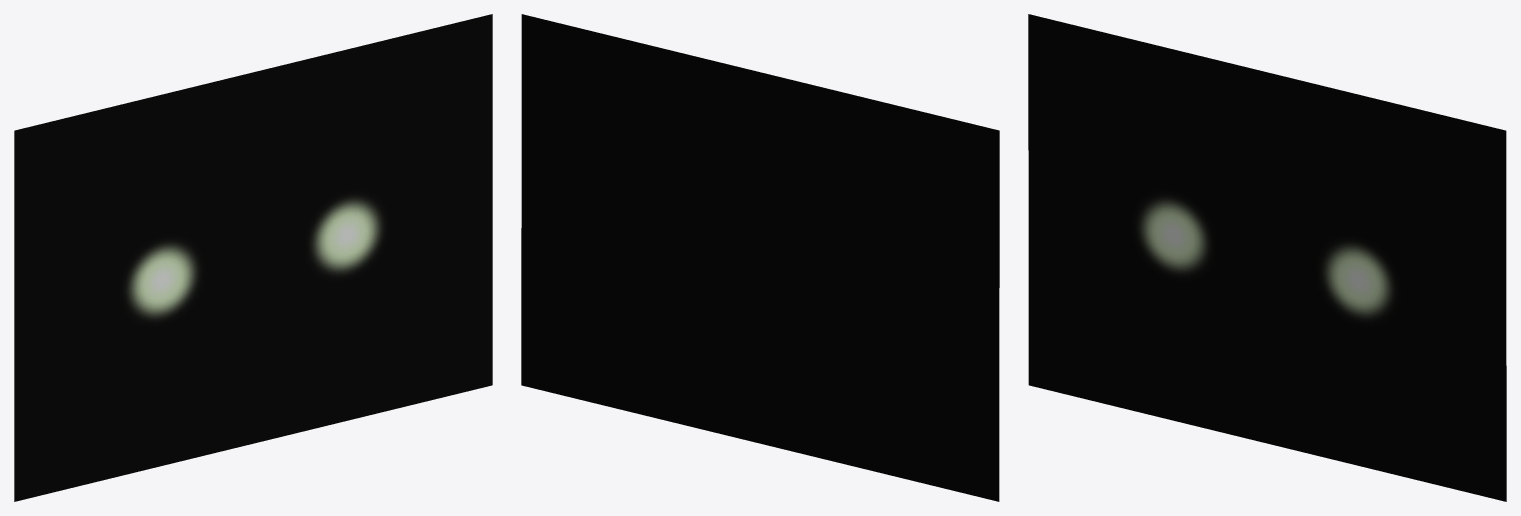
3 renders of one model, left to right at view 1: azimuth 30°, elevation 25°; view 2: azimuth 150°, elevation 25°; view 3: azimuth 330°, elevation 25°, orthographic.
Visible parts, largest first — view 1: body0_model0_lod0_mesh0; view 2: body0_model0_lod0_mesh0; view 3: body0_model0_lod0_mesh0.
Boxes of the visible parts, <box> form: body0_model0_lod0_mesh0: <box>14,14,492,501</box>; body0_model0_lod0_mesh0: <box>521,14,999,501</box>; body0_model0_lod0_mesh0: <box>1028,14,1506,501</box>.
Size of the model in its own units: 30.27 by 22.48 by 0.2956.
Materials: 1 (1 with a texture image).
